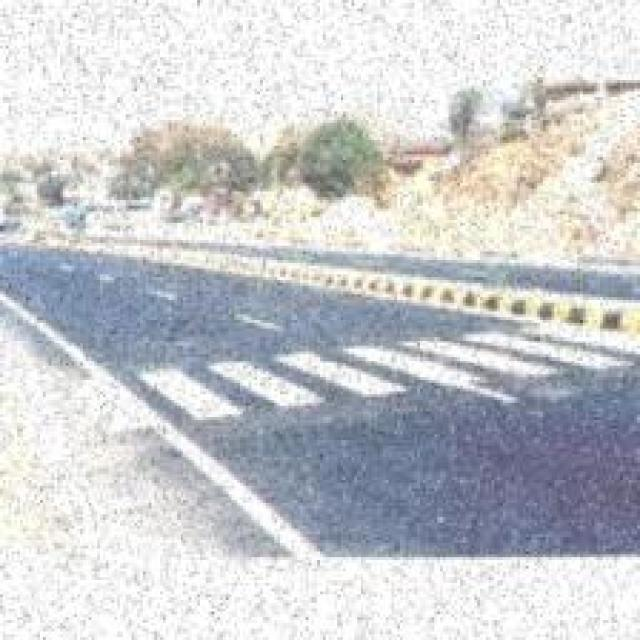crosswalk: (90, 306, 628, 486)
